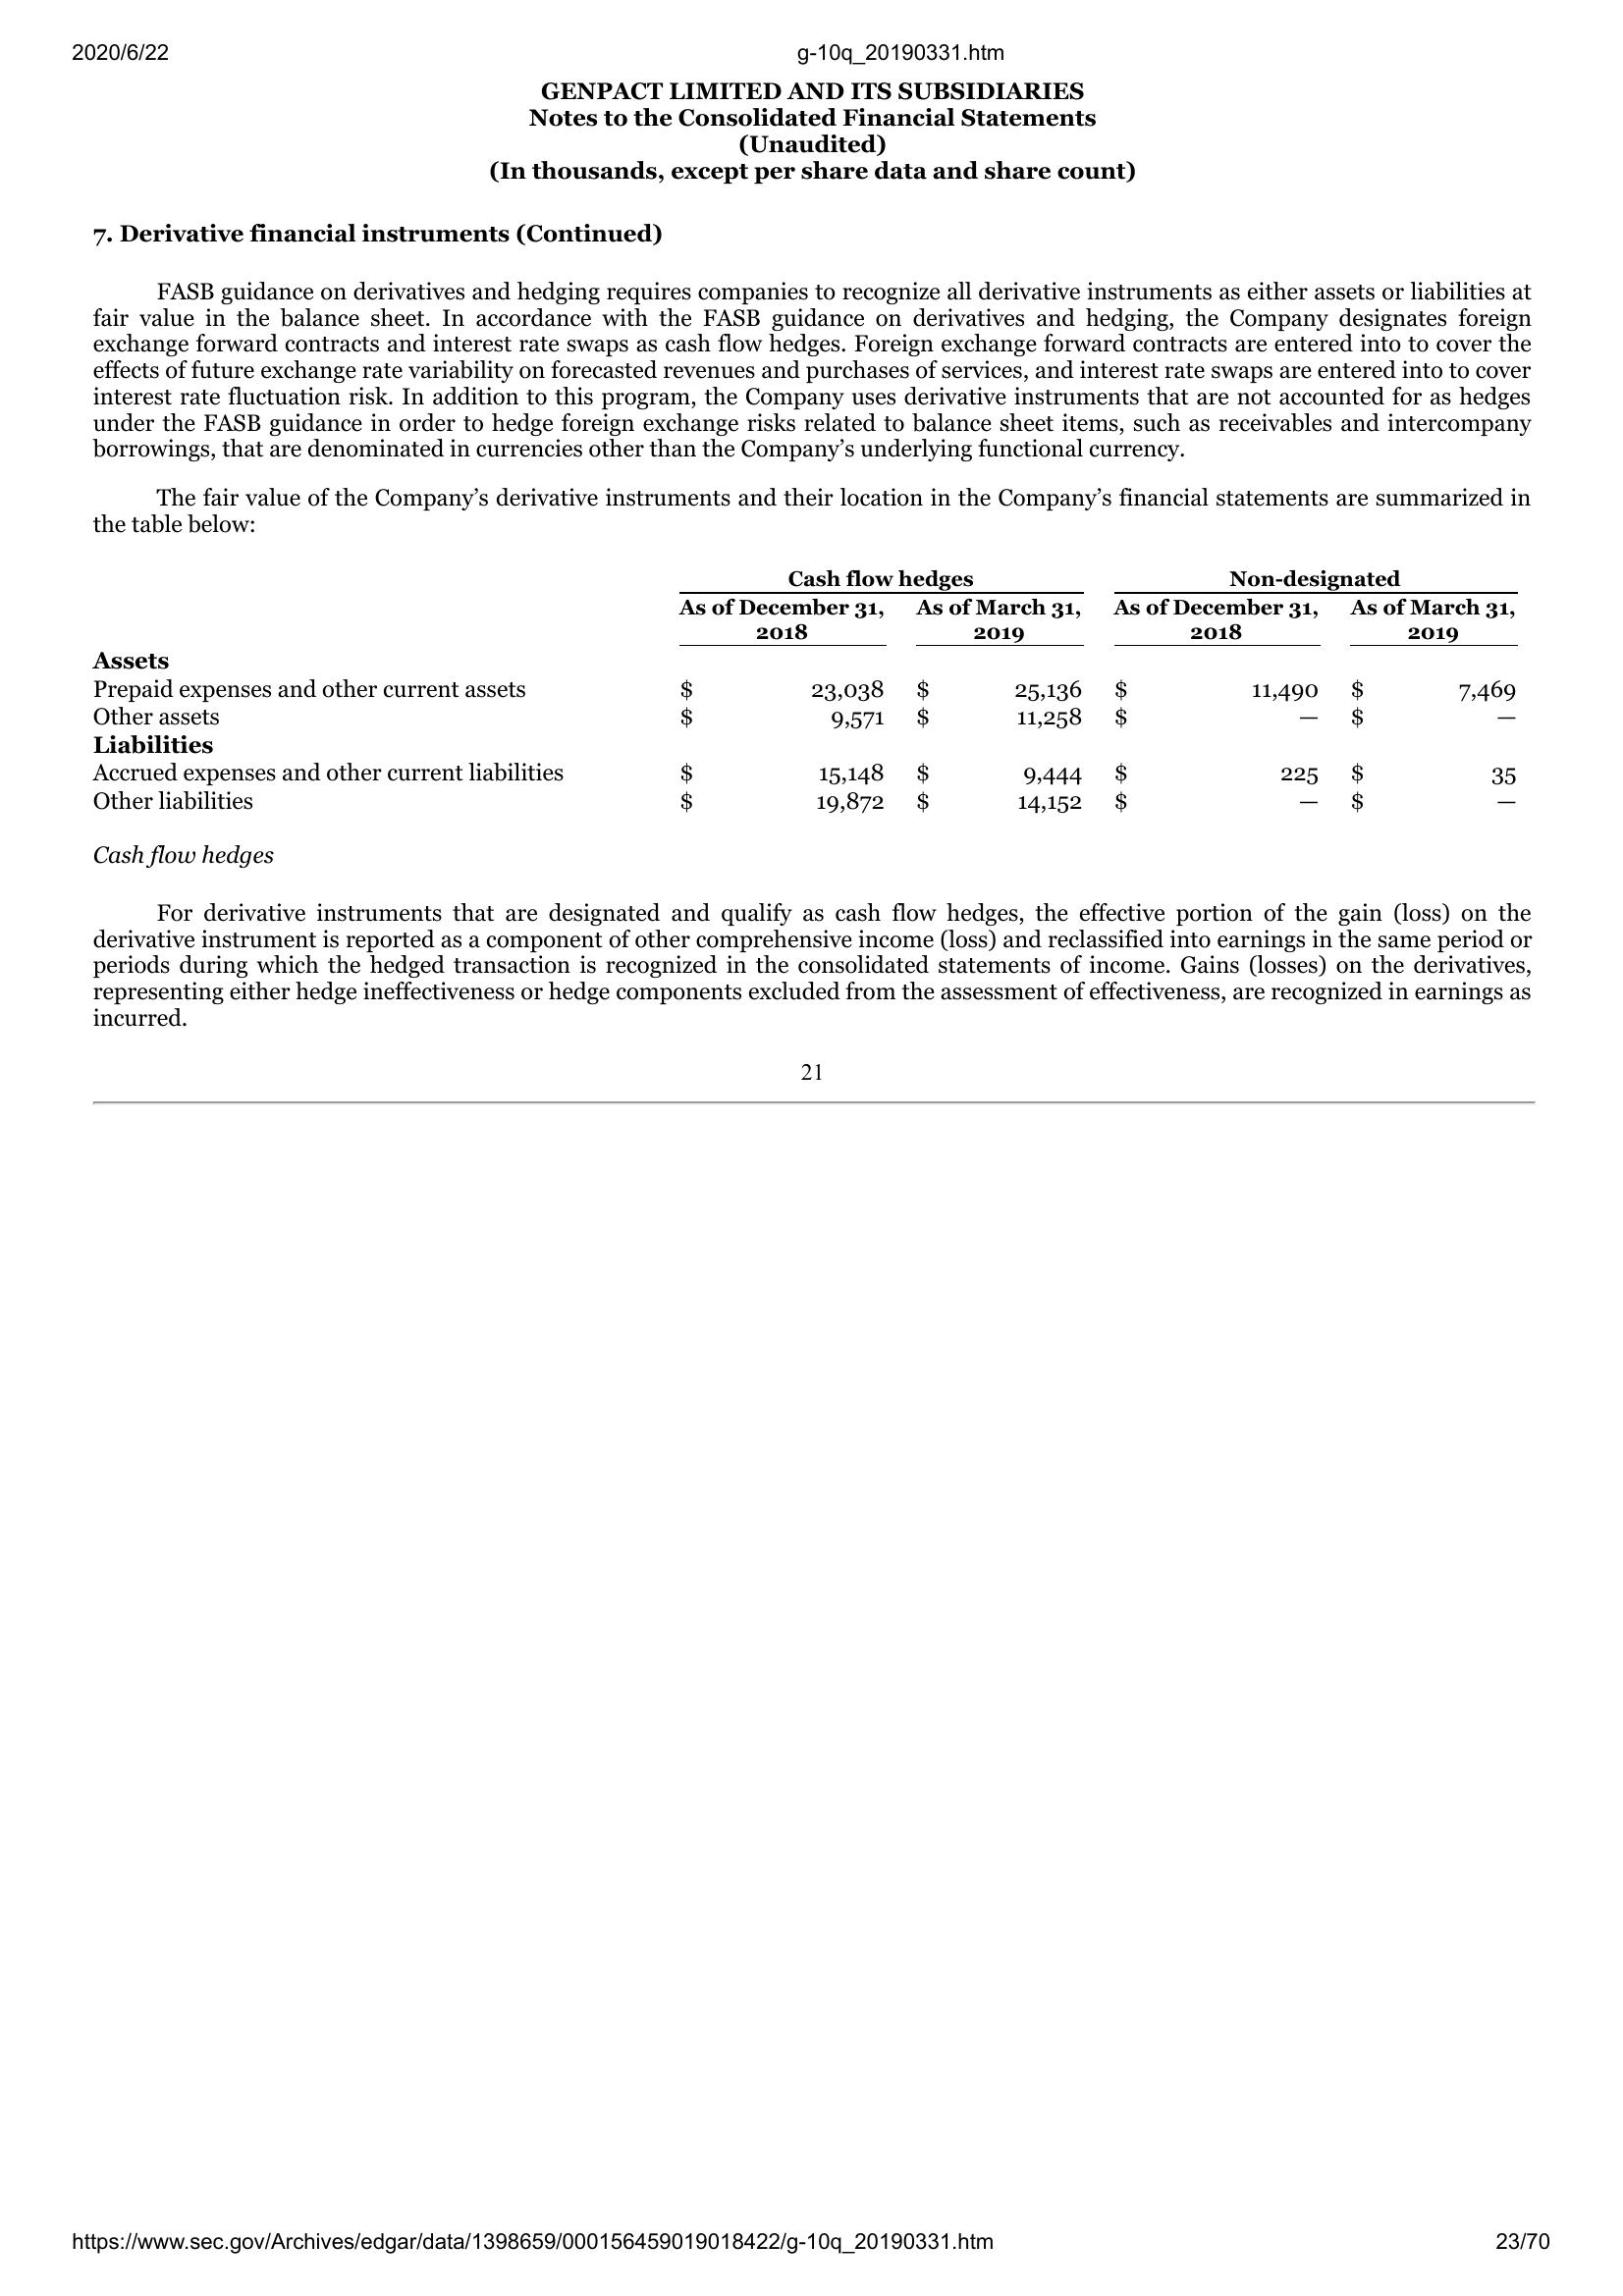table: (88, 560, 1533, 822)
